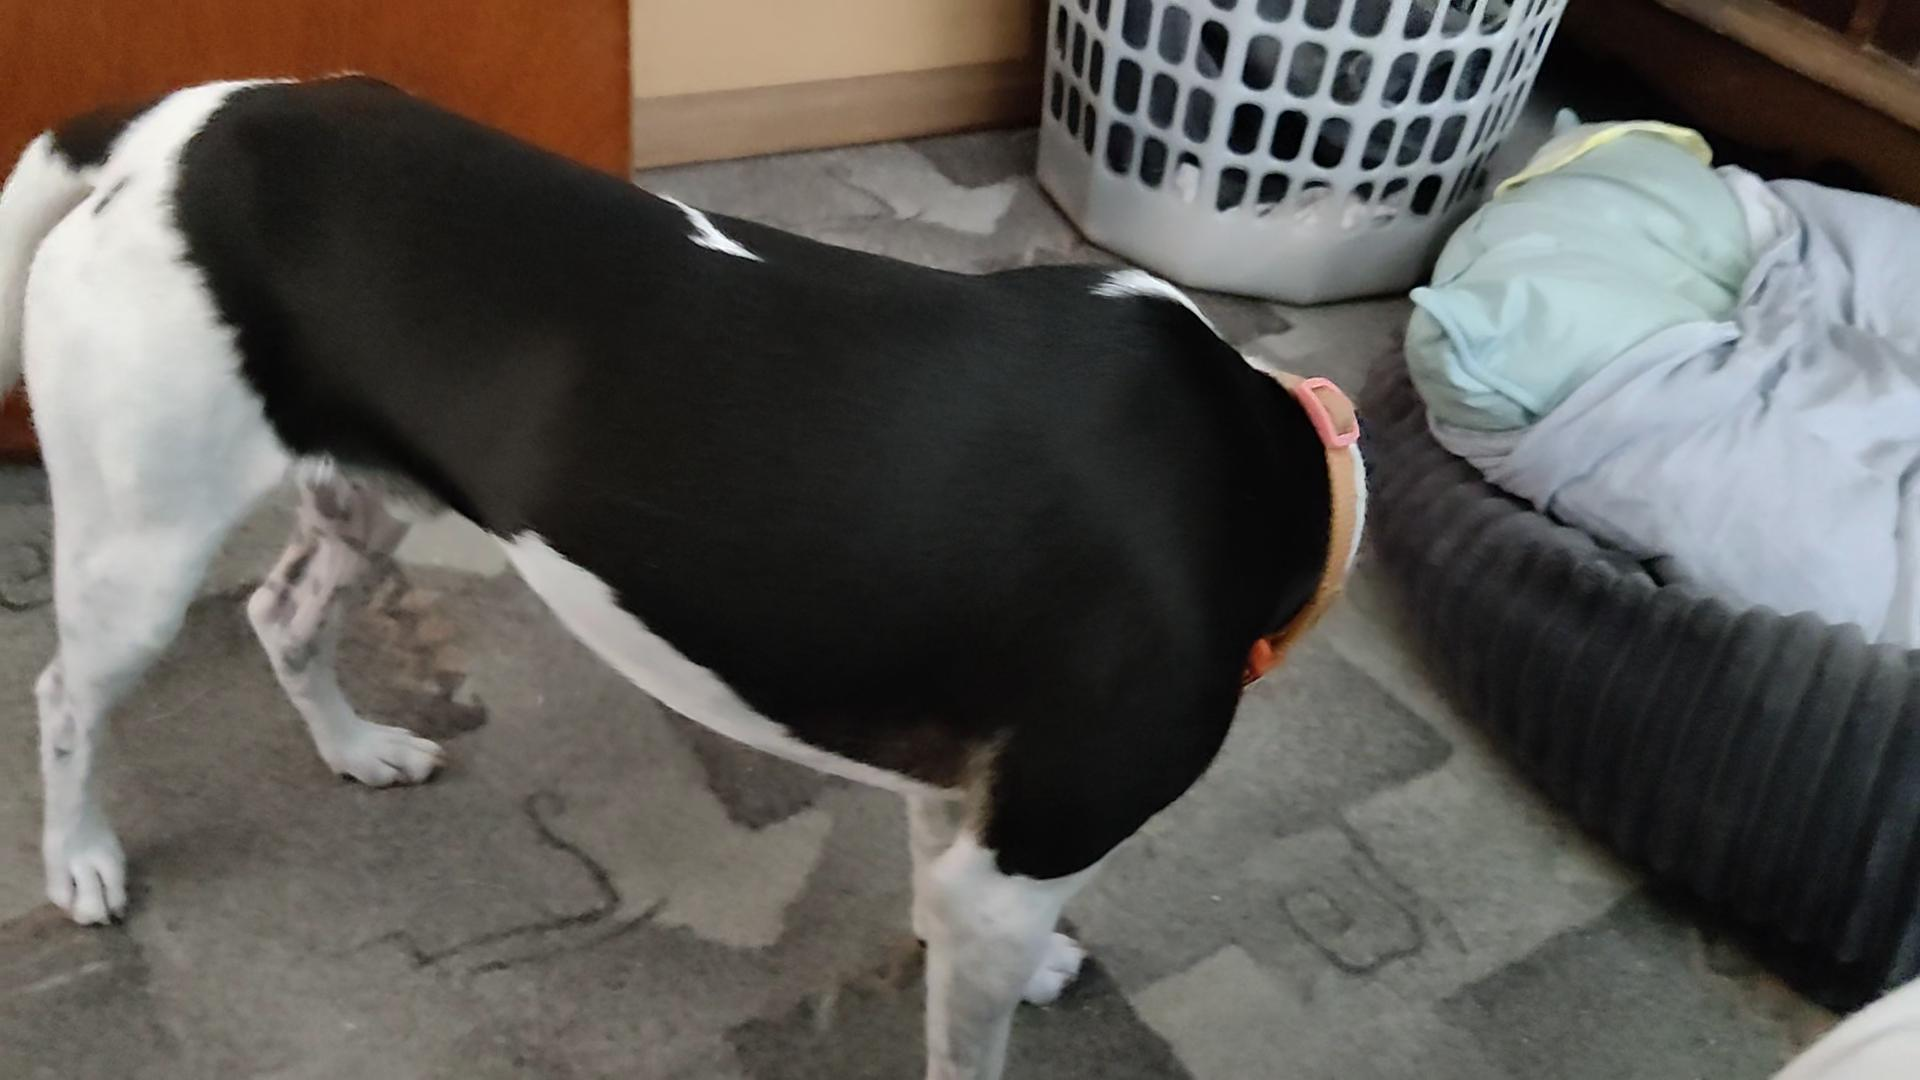Dog: (0, 47, 1393, 1079)
